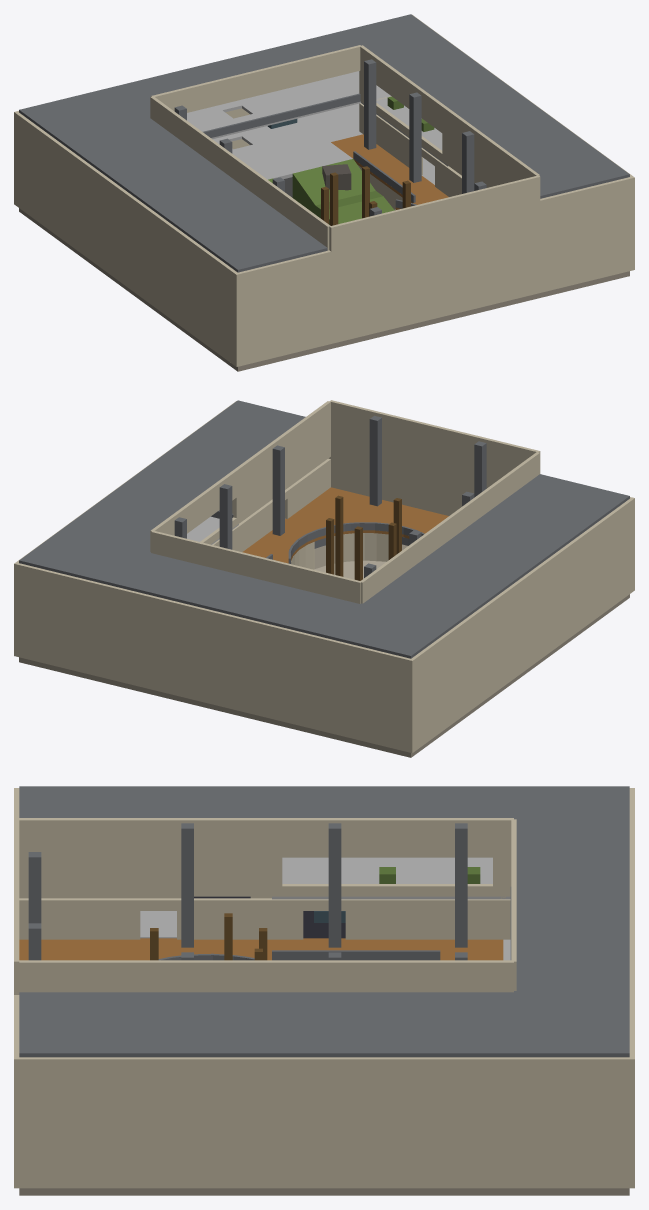
The model's file is ivory_tower_greybox.glb.
The picture shows the model from 3 angles, top to bottom: view 1: azimuth 30°, elevation 25°; view 2: azimuth 150°, elevation 25°; view 3: azimuth 270°, elevation 25°; orthographic projection. The views are drawn at different scales.
Parts seen in each view (by area): view 1: IvoryTower_Wall-col, IvoryTower_Trim-col, IvoryTower_Floor-col, IvoryTower_Ground-col, IvoryTower_Grass-col, IvoryTower_Wood-col, IvoryTower_Palm-col, IvoryTower_Rock-col; view 2: IvoryTower_Wall-col, IvoryTower_Trim-col, IvoryTower_Wood-col, IvoryTower_Ground-col, IvoryTower_Palm-col, IvoryTower_Floor-col; view 3: IvoryTower_Wall-col, IvoryTower_Trim-col, IvoryTower_Wood-col, IvoryTower_Floor-col, IvoryTower_Ground-col, IvoryTower_Palm-col, IvoryTower_Dark-col.
Boxes of the visible parts, x1,y1,x2,y2 form: IvoryTower_Wall-col: (14,14,634,366); IvoryTower_Trim-col: (19,14,629,272); IvoryTower_Floor-col: (187,71,448,197); IvoryTower_Ground-col: (19,208,629,371); IvoryTower_Grass-col: (268,96,434,224); IvoryTower_Wood-col: (331,134,448,209); IvoryTower_Palm-col: (321,166,410,225); IvoryTower_Rock-col: (322,164,351,190); IvoryTower_Wall-col: (14,400,634,753); IvoryTower_Trim-col: (19,400,629,658); IvoryTower_Wood-col: (242,487,448,563); IvoryTower_Ground-col: (19,544,629,757); IvoryTower_Palm-col: (326,495,401,580); IvoryTower_Floor-col: (187,516,285,544); IvoryTower_Wall-col: (14,788,634,1188); IvoryTower_Trim-col: (19,786,629,1057); IvoryTower_Wood-col: (19,938,503,960); IvoryTower_Floor-col: (140,857,510,960); IvoryTower_Ground-col: (19,1188,629,1195); IvoryTower_Palm-col: (150,913,267,960); IvoryTower_Dark-col: (194,896,345,938).
Size of what is drawn, in the model's own units: 61 by 18 by 59.
